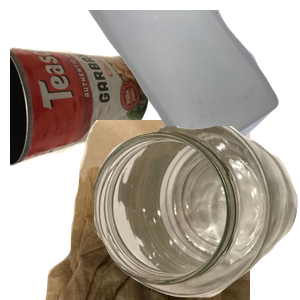glass: (94, 126, 300, 300)
metal: (10, 44, 151, 203)
plastic: (84, 10, 300, 157)
trash: (43, 120, 283, 300)
